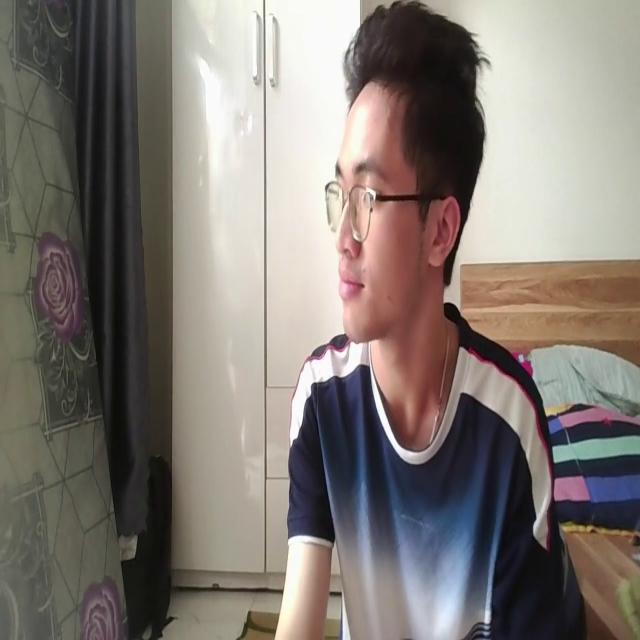student: (270, 2, 568, 640)
